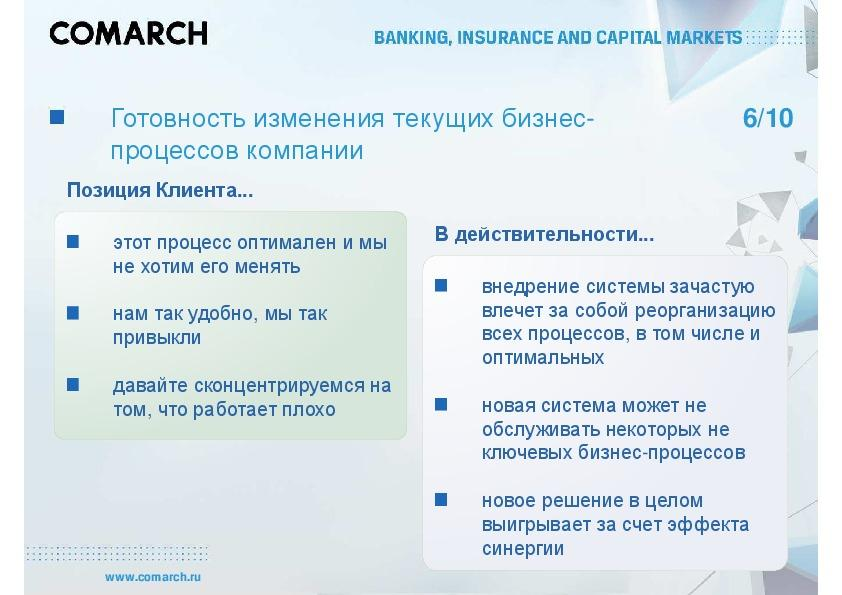paragraph: (427, 213, 791, 584), (48, 177, 414, 496)
subtitle: (47, 101, 632, 166)
title: (44, 1, 783, 65)
